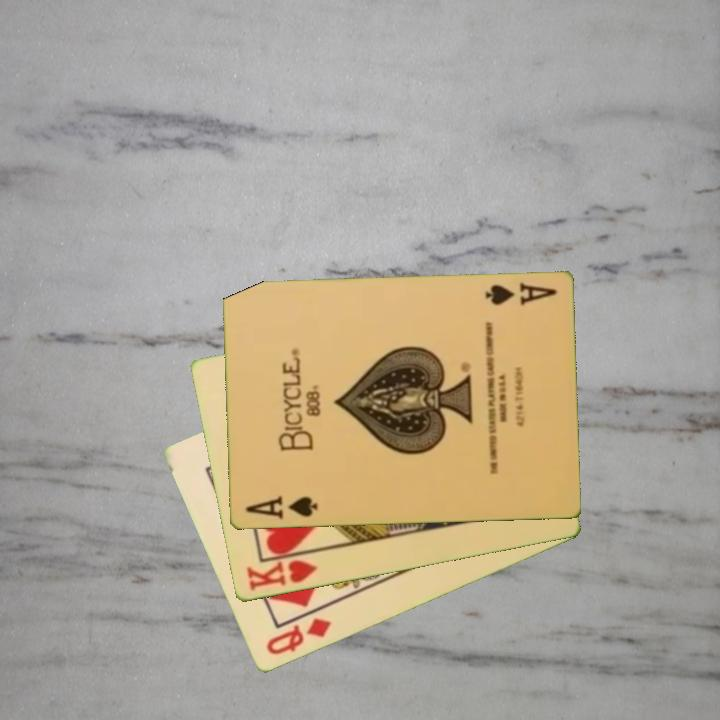As: (242, 493, 320, 523), (481, 280, 559, 309)
Kh: (243, 548, 322, 594)
Qd: (262, 615, 335, 659)
